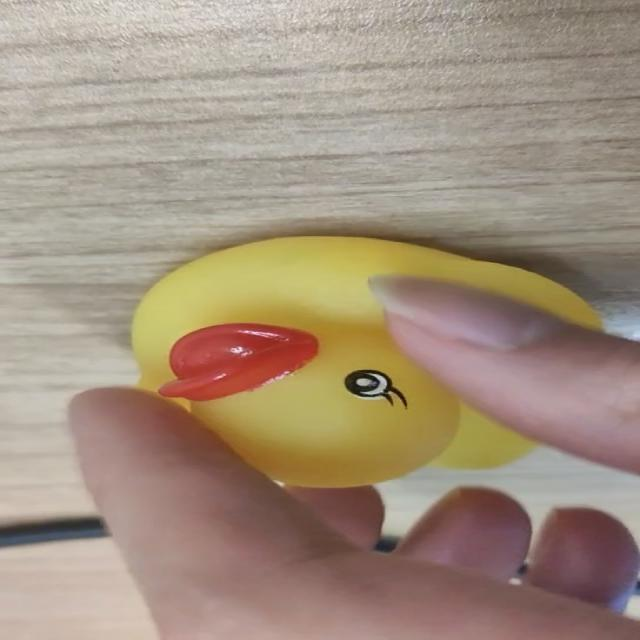rubber-duck: (131, 235, 599, 485)
